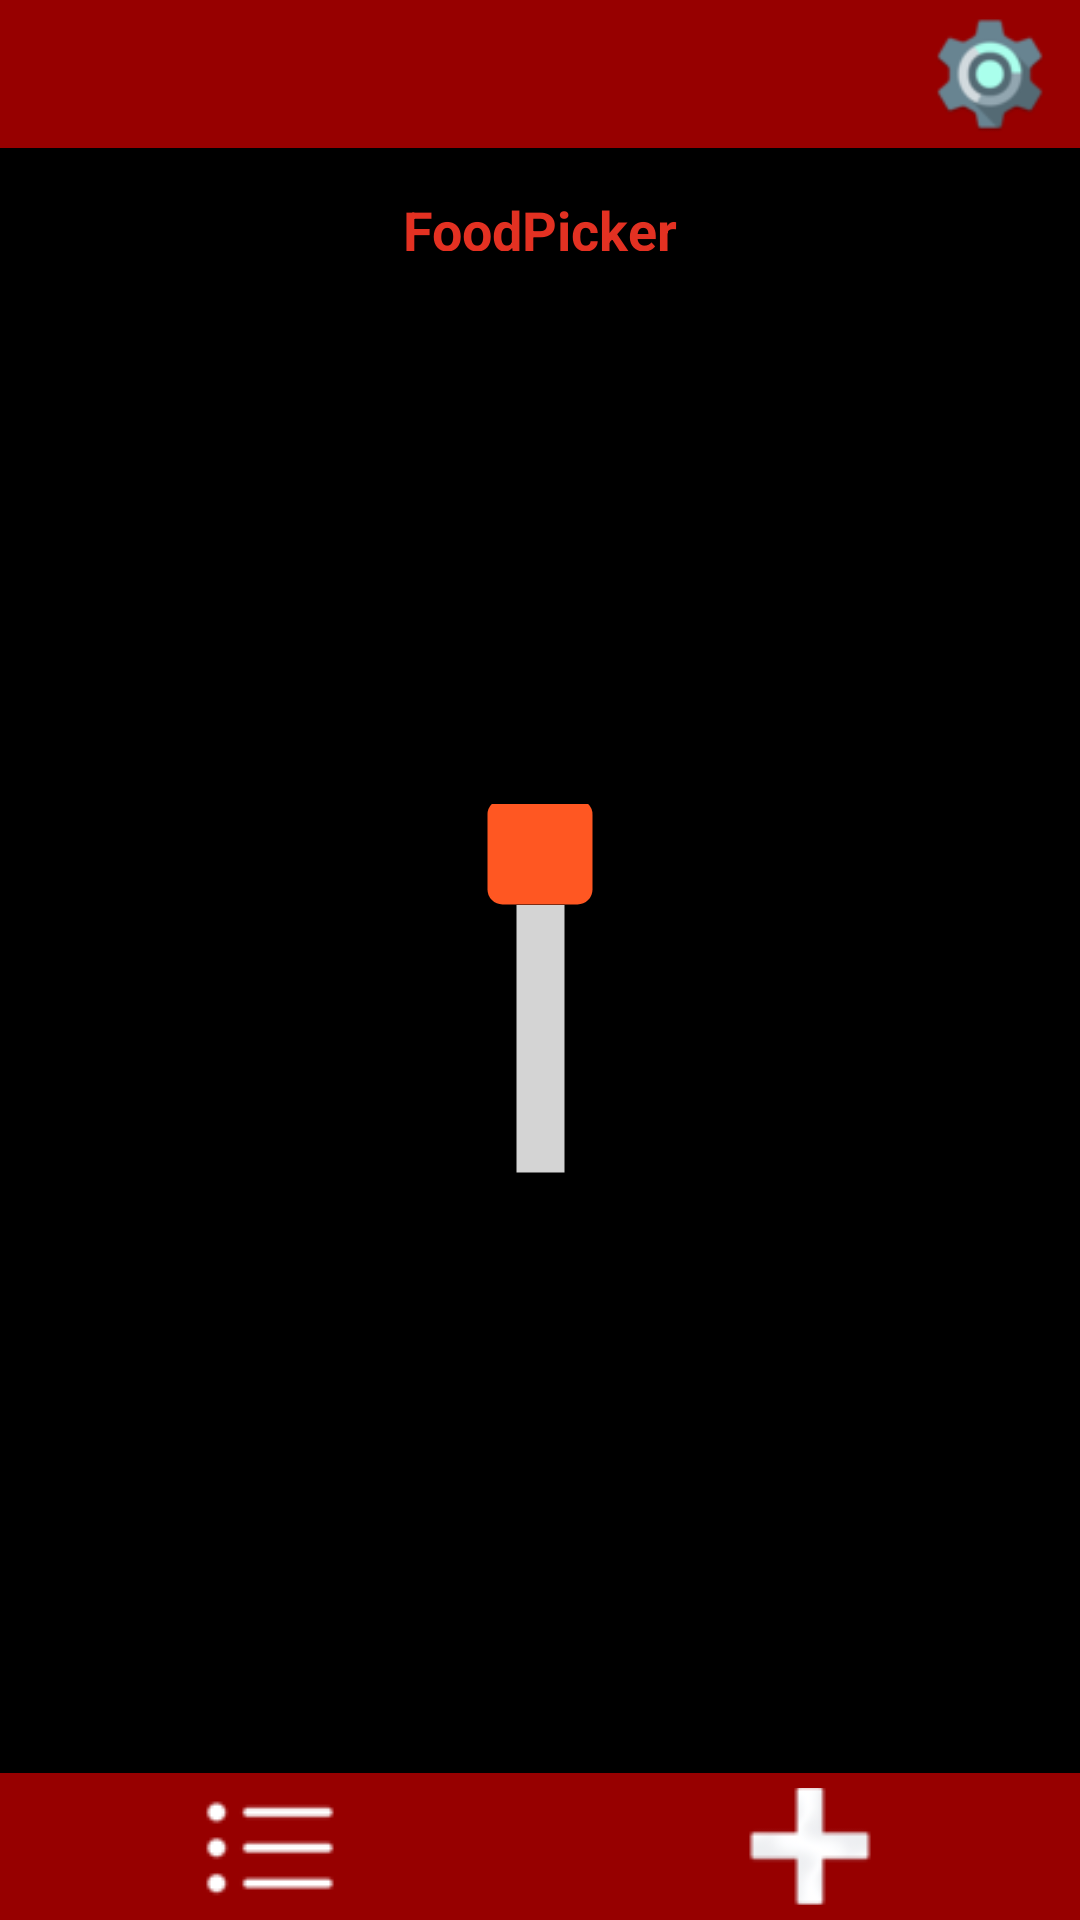

Icons on this 1080w x 1920h Android screen, each with its box as [x1, y1, x2, y2]:
Add: [749, 1788, 871, 1905]
List: [206, 1801, 334, 1895]
Setting: [937, 19, 1043, 129]
